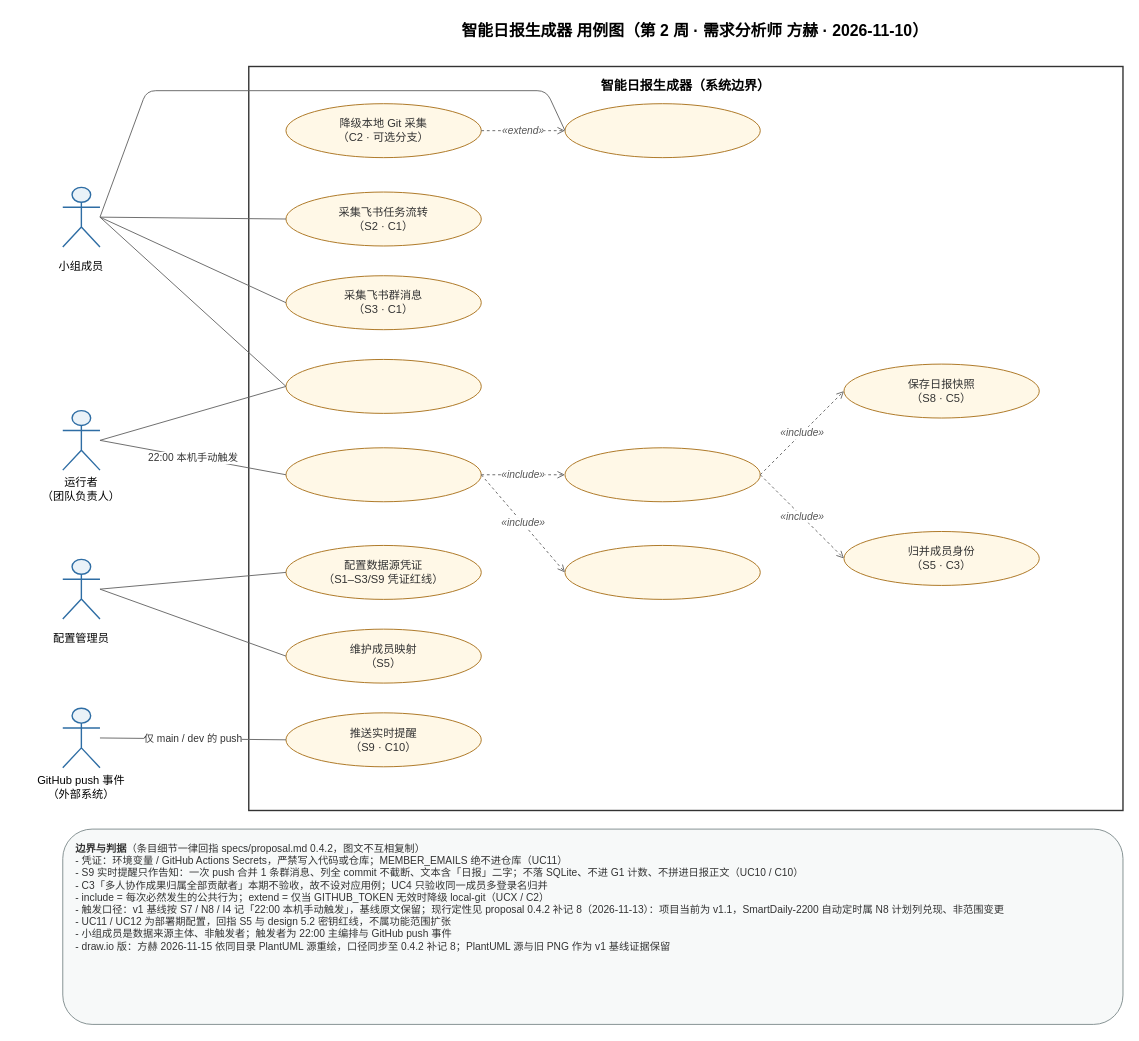
Some shapes in this 1139 by 1041 pixel diagram are drawn without their labels. Here are the shapes that lost their labels. From the top down, the centre of each, then its label:
At [662,130]: "采集 GitHub 提交 （S1 · C1/C3）".
At [383,386]: "查询历史日报 （S8 · --list）".
At [383,474]: "汇总团队日报 （S6 · C4）".
At [662,474]: "生成个人日报 （S4 · C1/C4）".
At [662,572]: "推送日报 （S7 · C7）".
